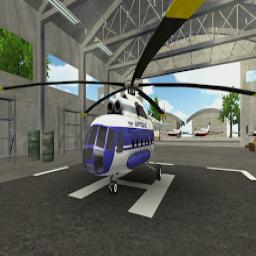helicopter: (2, 2, 249, 183)
